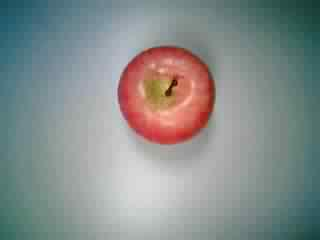apple: (115, 44, 219, 145)
